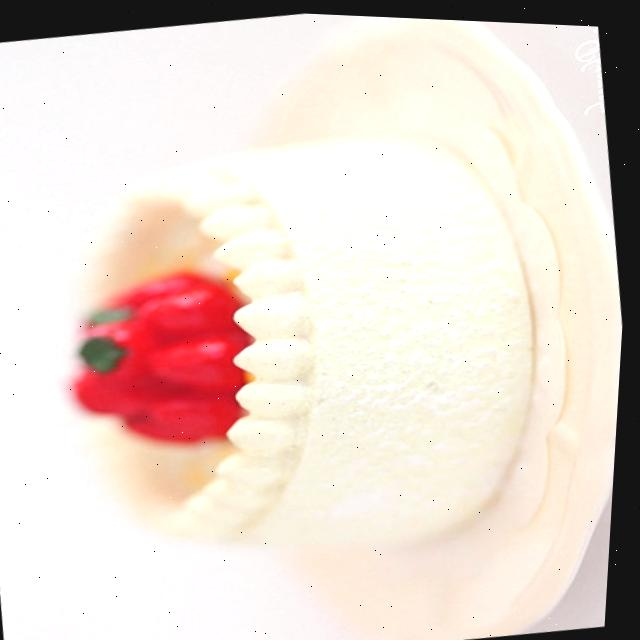蛋糕甜品: (0, 27, 637, 640)
